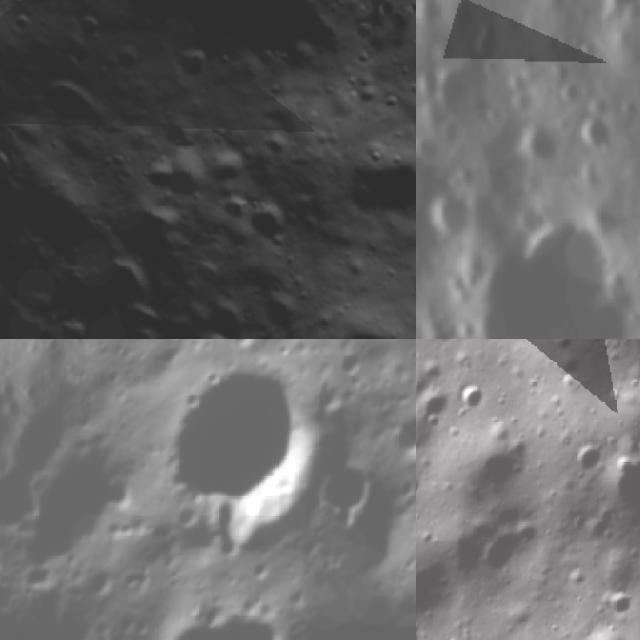crater: (125, 339, 341, 561), (420, 191, 640, 339), (2, 165, 128, 291), (130, 563, 310, 640), (102, 188, 206, 291), (243, 284, 416, 339), (342, 127, 416, 254), (24, 59, 116, 150), (470, 499, 553, 592), (131, 132, 218, 219), (311, 437, 394, 526), (90, 246, 170, 326), (0, 140, 47, 237), (242, 192, 306, 256), (417, 180, 477, 242), (163, 33, 223, 93), (596, 446, 640, 523), (101, 31, 159, 89), (195, 289, 262, 339), (206, 184, 262, 239), (376, 400, 416, 468), (65, 1, 117, 53), (507, 120, 558, 171), (564, 111, 616, 158), (562, 434, 608, 483), (0, 1, 45, 45), (416, 380, 456, 428), (0, 310, 58, 339), (450, 376, 491, 416), (601, 588, 633, 622), (426, 339, 460, 351), (416, 465, 426, 502)
